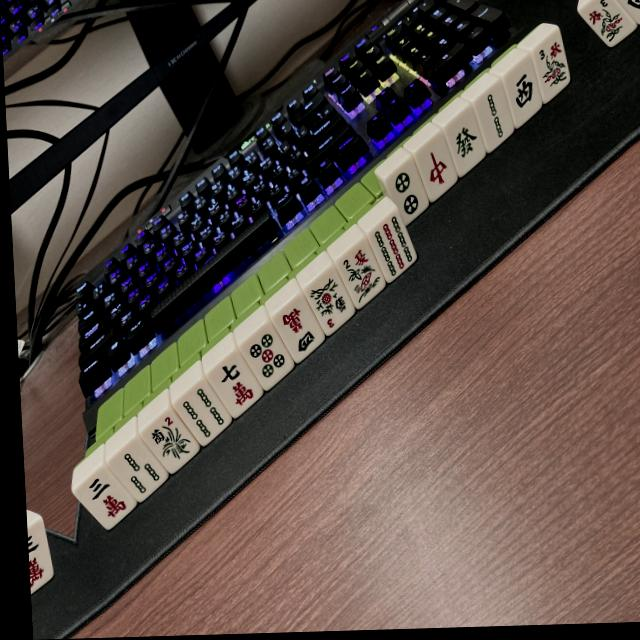2B: (469, 83, 520, 151)
2D: (381, 159, 433, 227)
2F: (140, 411, 201, 476)
2S: (333, 241, 391, 309)
3B: (108, 437, 171, 503)
3C: (71, 463, 138, 532), (27, 520, 56, 598)
3F: (302, 269, 360, 336)
3S: (527, 35, 574, 100), (579, 0, 638, 49)
4B: (173, 380, 235, 448)
4C: (270, 295, 329, 365)
5D: (238, 322, 298, 391)
7C: (207, 351, 268, 419)
9B: (365, 212, 424, 283)
GD: (440, 109, 491, 175)
RD: (410, 136, 463, 203)
WW: (500, 59, 550, 126), (610, 0, 640, 27)
